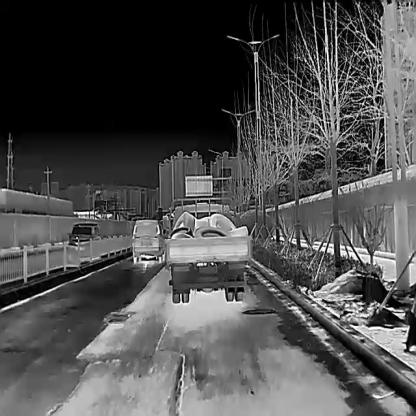car: (131, 218, 164, 263), (68, 222, 100, 254)
truck: (165, 197, 251, 303)
